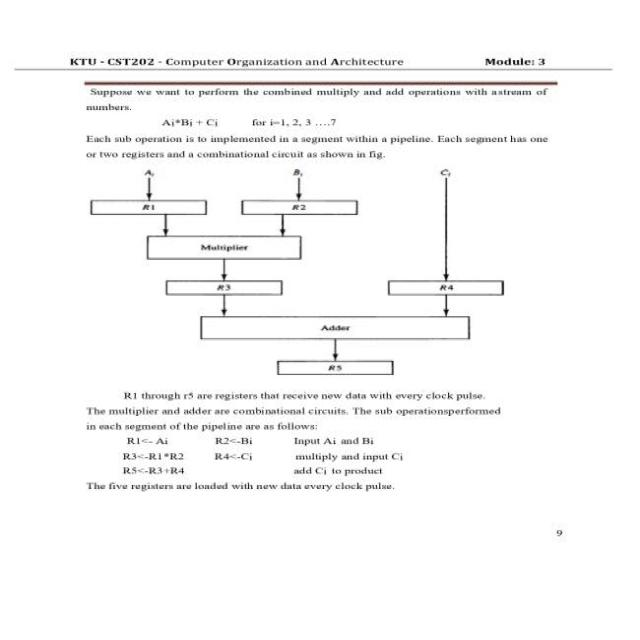Figure Detection - v3 Dataset Version2: (87, 159, 513, 380)
